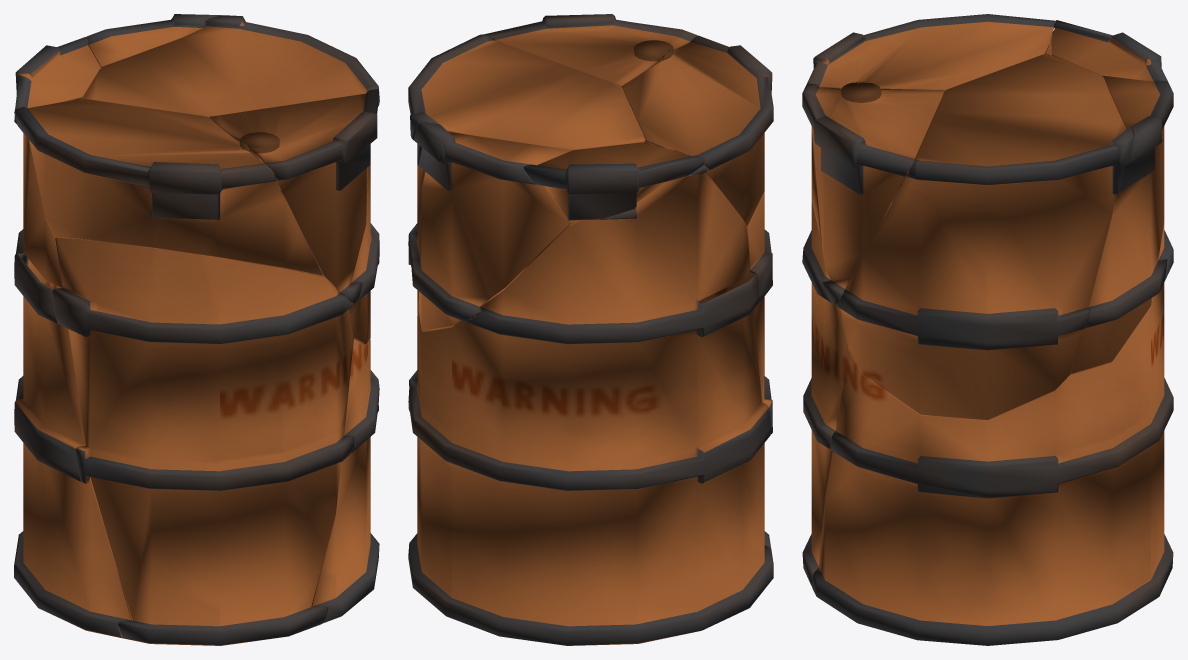
The model's file is SSCFuelDrum1_Destruct.fbx.
3 renders of one model, left to right at view 1: azimuth 30°, elevation 25°; view 2: azimuth 150°, elevation 25°; view 3: azimuth 270°, elevation 25°, orthographic.
Parts seen in each view (by area): view 1: SSCFuelDrum1_Frag.05, SSCFuelDrum1_Frag.01, SSCFuelDrum1_Frag.03, SSCFuelDrum1_Frag.06, SSCFuelDrum1_Frag.00, SSCFuelDrum1_Frag.04, SSCFuelDrum1_Frag.02; view 2: SSCFuelDrum1_Frag.01, SSCFuelDrum1_Frag.02, SSCFuelDrum1_Frag.06, SSCFuelDrum1_Frag.03, SSCFuelDrum1_Frag.04, SSCFuelDrum1_Frag.00, SSCFuelDrum1_Frag.05; view 3: SSCFuelDrum1_Frag.01, SSCFuelDrum1_Frag.06, SSCFuelDrum1_Frag.00, SSCFuelDrum1_Frag.02, SSCFuelDrum1_Frag.03, SSCFuelDrum1_Frag.05, SSCFuelDrum1_Frag.04.
Boxes of the visible parts, x1,y1,x2,y2 form: SSCFuelDrum1_Frag.05: [52, 237, 354, 645]; SSCFuelDrum1_Frag.01: [14, 115, 379, 638]; SSCFuelDrum1_Frag.03: [15, 99, 322, 275]; SSCFuelDrum1_Frag.06: [84, 15, 379, 343]; SSCFuelDrum1_Frag.00: [209, 89, 378, 304]; SSCFuelDrum1_Frag.04: [14, 37, 100, 113]; SSCFuelDrum1_Frag.02: [78, 14, 259, 159]; SSCFuelDrum1_Frag.01: [408, 165, 773, 645]; SSCFuelDrum1_Frag.02: [411, 122, 571, 330]; SSCFuelDrum1_Frag.06: [408, 34, 645, 314]; SSCFuelDrum1_Frag.03: [622, 35, 773, 226]; SSCFuelDrum1_Frag.04: [524, 142, 704, 223]; SSCFuelDrum1_Frag.00: [484, 14, 697, 87]; SSCFuelDrum1_Frag.05: [699, 161, 772, 549]; SSCFuelDrum1_Frag.01: [812, 30, 1173, 645]; SSCFuelDrum1_Frag.06: [836, 54, 1133, 419]; SSCFuelDrum1_Frag.00: [802, 82, 944, 304]; SSCFuelDrum1_Frag.02: [1071, 76, 1173, 373]; SSCFuelDrum1_Frag.03: [806, 14, 1055, 243]; SSCFuelDrum1_Frag.05: [802, 160, 914, 585]; SSCFuelDrum1_Frag.04: [1051, 20, 1168, 82].
Size of the model in its own units: 60 by 85.93 by 60.
